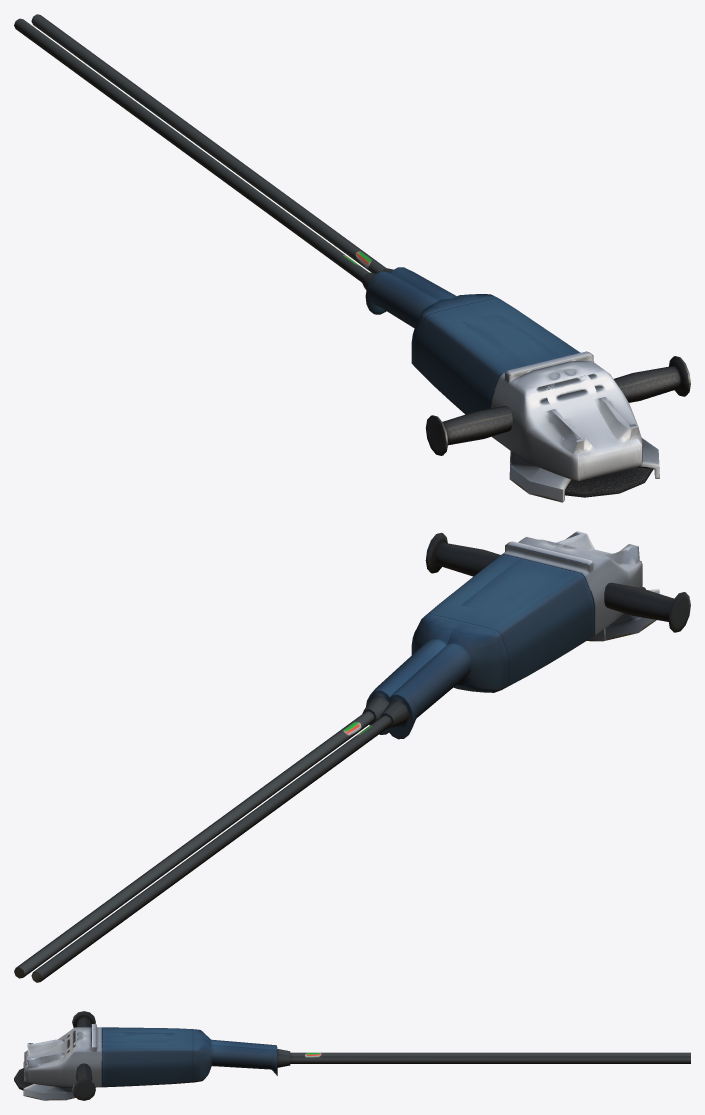
Rendered from grinder.fbx.
The picture shows the model from 3 angles, top to bottom: view 1: azimuth 30°, elevation 25°; view 2: azimuth 150°, elevation 25°; view 3: azimuth 270°, elevation 25°; orthographic projection. The views are drawn at different scales.
Parts seen in each view (by area): view 1: bodyL, bodyR, blade; view 2: bodyL, bodyR; view 3: bodyR, bodyL, blade.
Part boxes in pixels (bbox=[...]): bodyL: bbox=[14, 18, 690, 480]; bodyR: bbox=[31, 14, 642, 502]; blade: bbox=[565, 467, 653, 497]; bodyL: bbox=[31, 532, 642, 982]; bodyR: bbox=[14, 531, 690, 978]; bodyR: bbox=[23, 1011, 690, 1087]; bodyL: bbox=[23, 1024, 690, 1100]; blade: bbox=[14, 1068, 33, 1090].
Bounding box in the file's own units: 34.68 × 11.15 × 144.
